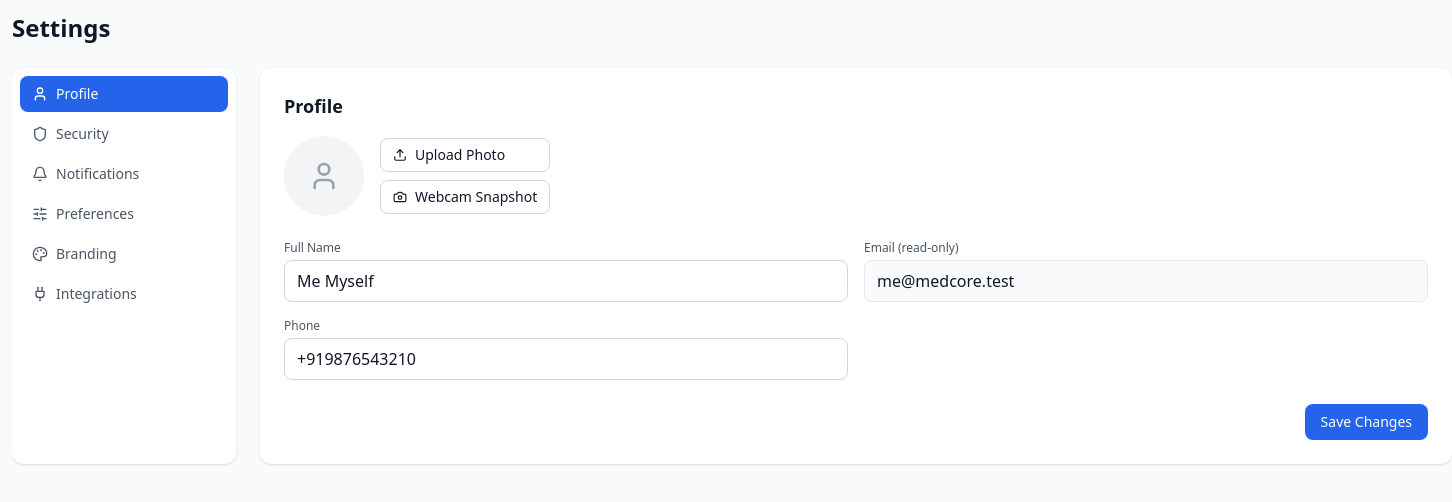
SettingsPage — Profile tab › rejects a bad phone (Issue #392) and never PATCHes
The width and height of the screenshot is (1452, 502).
Expected: the field with test id "profile-name" holds "Me Myself", [284, 260, 848, 302]
Replace the text in the field with test id "profile-phone" with "abc!@#": (566, 359) [284, 338, 848, 380]
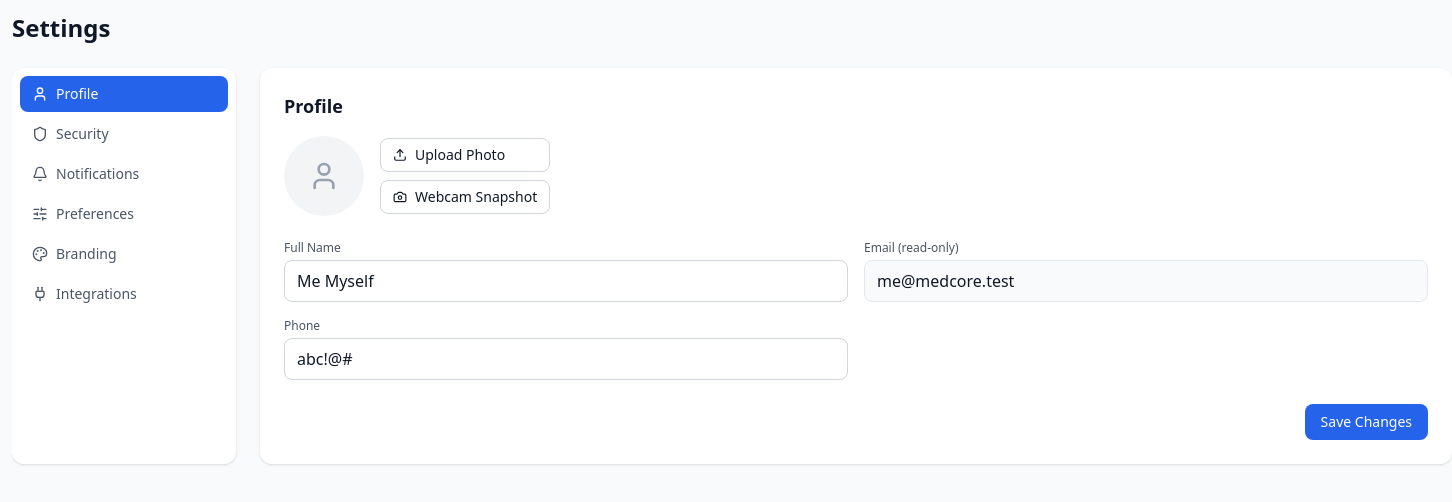
Click the button "Save Changes": (1366, 422) [1305, 404, 1428, 440]
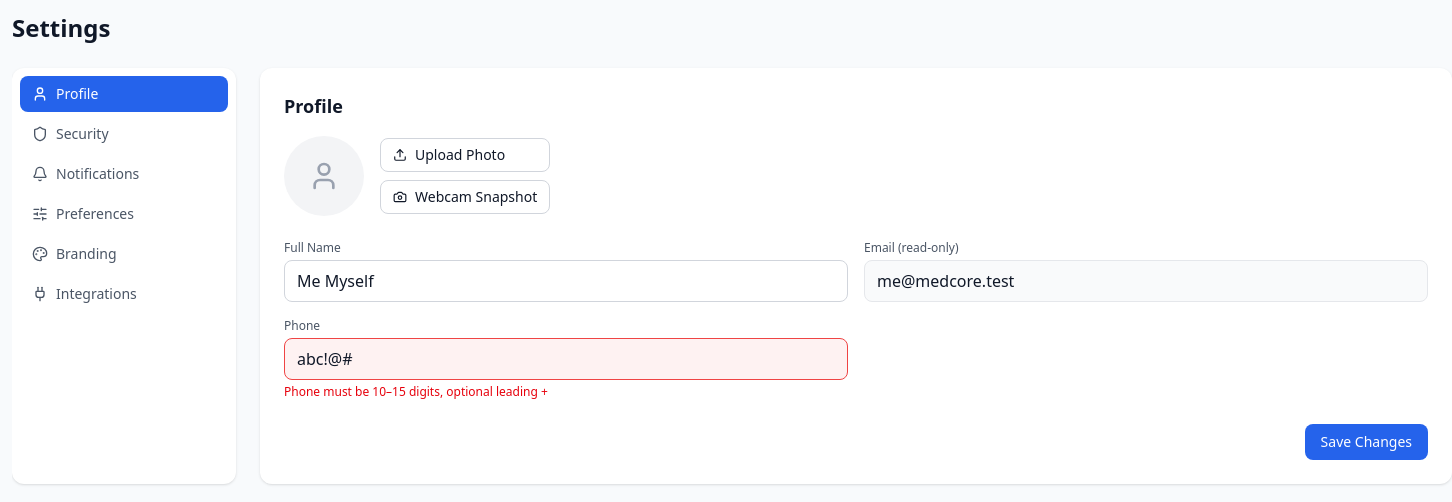
Result: the text "Phone must be 10–15 digits, optional leading +" is shown at [284, 383, 548, 400]
